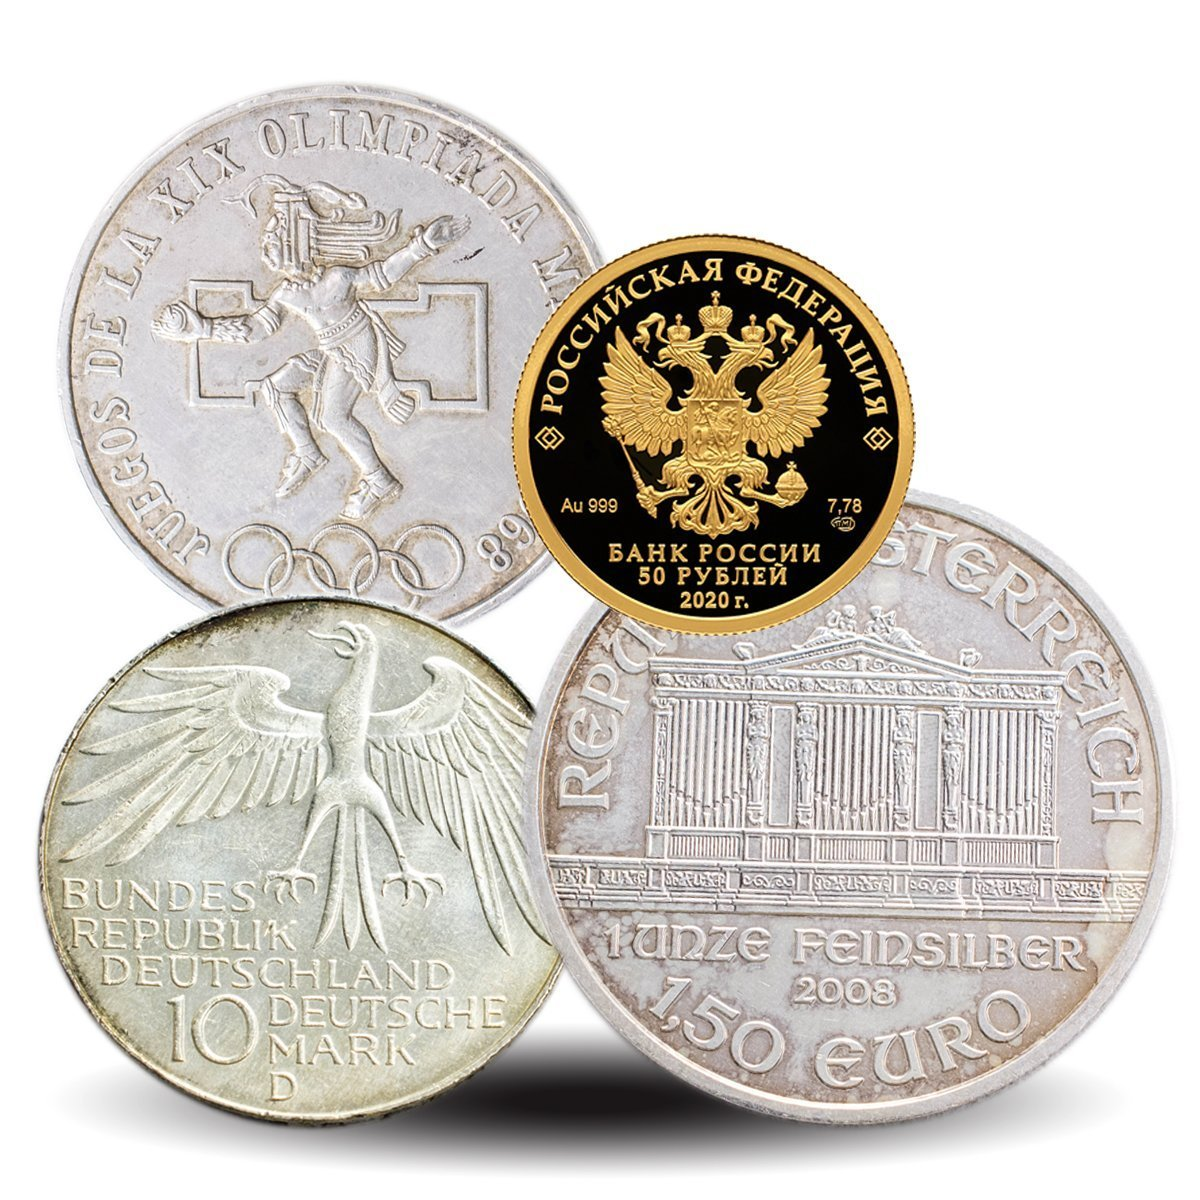coin: (518, 484, 1177, 1127), (62, 82, 589, 625), (37, 596, 562, 1127), (512, 233, 915, 635)
